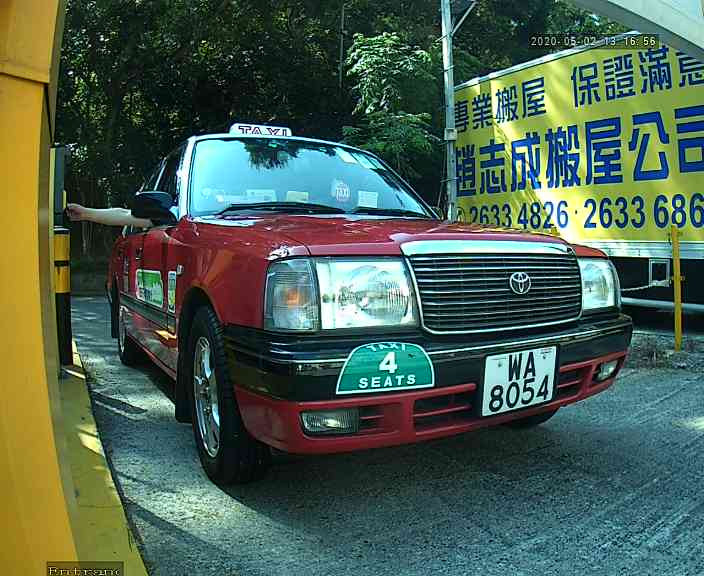taxi: (67, 94, 652, 502)
taxi_mark: (325, 328, 454, 414)
